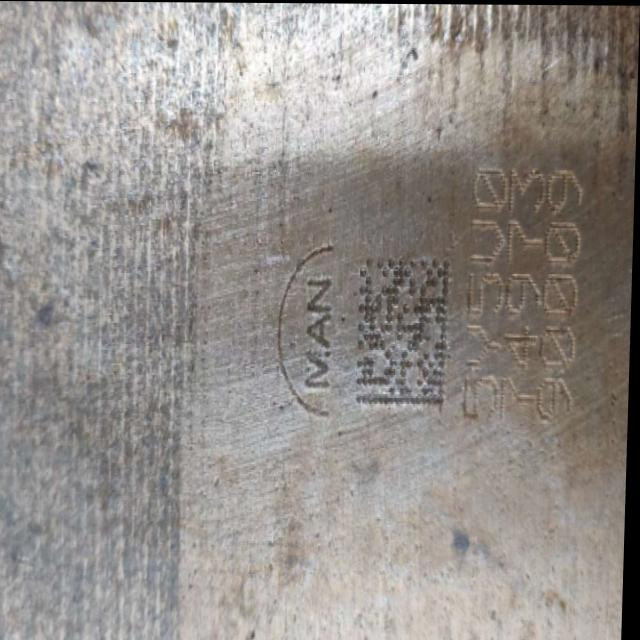dmc: (359, 257, 451, 404)
